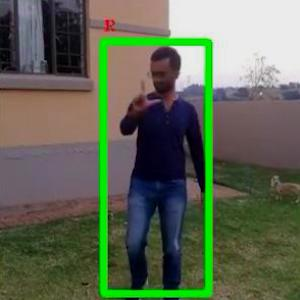land_hand: (127, 73, 160, 112)
